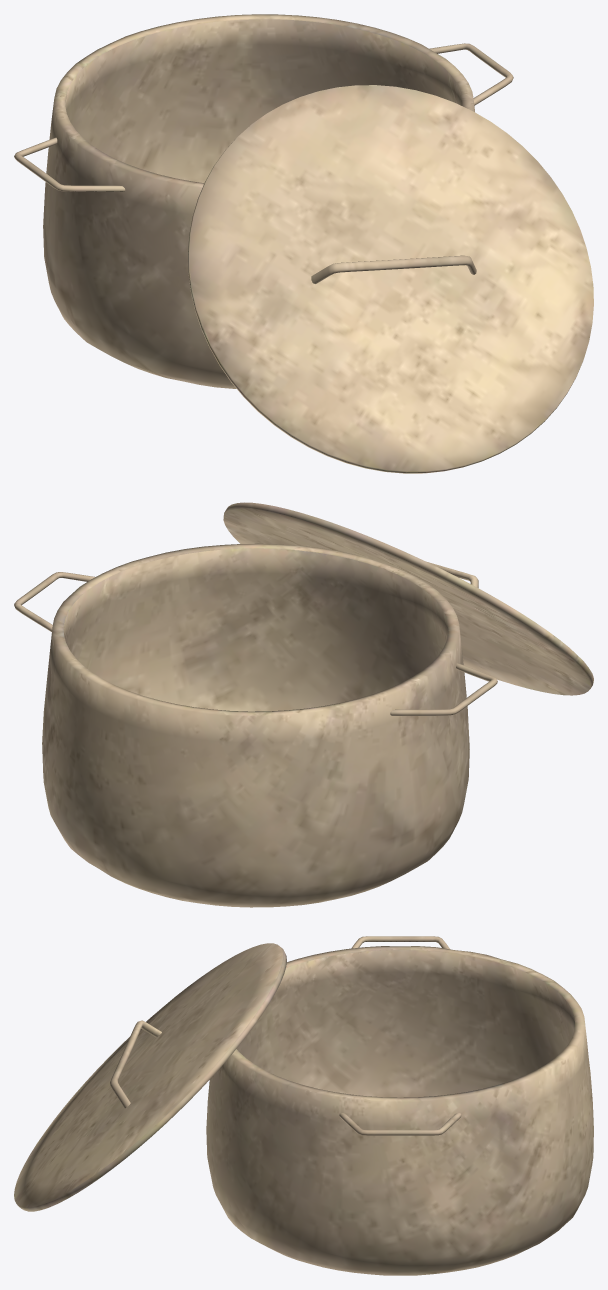
Rendered from s_cazo_cobre.glb.
The picture shows the model from 3 angles, top to bottom: view 1: azimuth 30°, elevation 25°; view 2: azimuth 150°, elevation 25°; view 3: azimuth 270°, elevation 25°; orthographic projection. The views are drawn at different scales.
Parts seen in each view (by area): view 1: handleside.001_copperpot_0; view 2: handleside.001_copperpot_0; view 3: handleside.001_copperpot_0.
Part boxes in pixels (box(x1,y1,x2,y2)): handleside.001_copperpot_0: box(14, 14, 593, 473); handleside.001_copperpot_0: box(14, 502, 593, 907); handleside.001_copperpot_0: box(14, 936, 593, 1275).
Size of the model in its own units: 0.2405 by 0.1457 by 0.3.
1 material, 1 textured.
